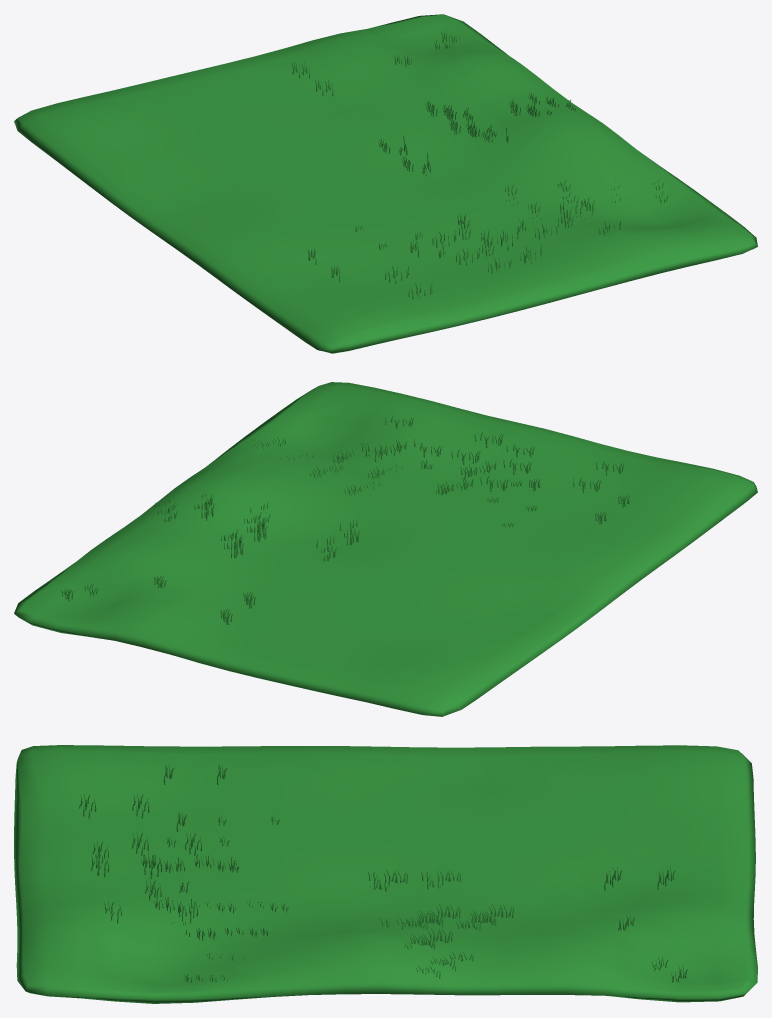
Rendered from PastoVeranofbx.fbx.
3 views of the same model, one above another, from view 1: azimuth 30°, elevation 25°; view 2: azimuth 150°, elevation 25°; view 3: azimuth 270°, elevation 25° (orthographic). The views are drawn at different scales.
Visible parts, largest first — view 1: Plane.005; view 2: Plane.005; view 3: Plane.005.
Part boxes in pixels (x1,y1,x2,y2): Plane.005: (14, 14, 757, 353); Plane.005: (14, 382, 757, 716); Plane.005: (14, 745, 757, 1003).
Bounding box in the file's own units: 3548 × 353 × 4455.
